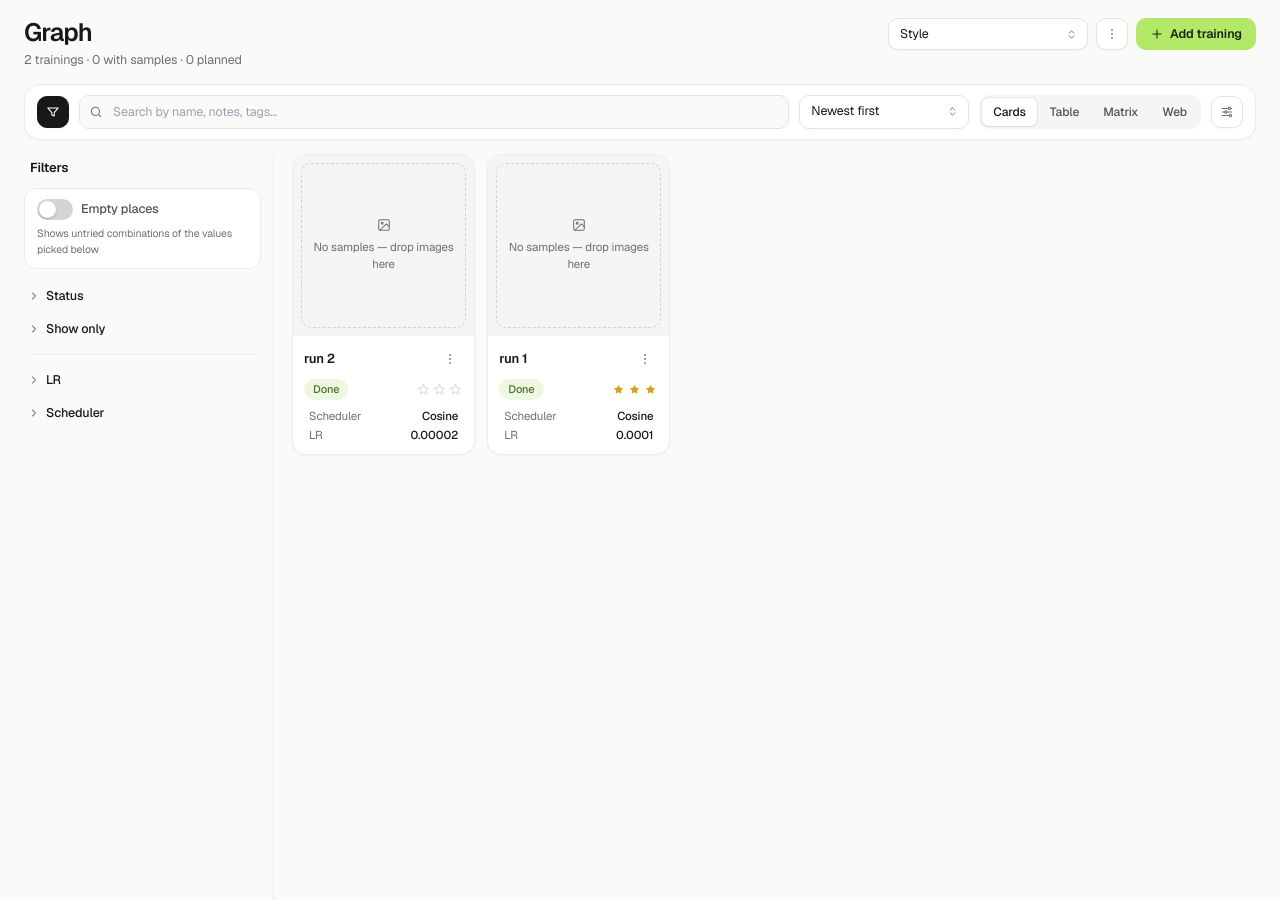
Test: GraphPage › shows a queue loading error and allows retrying
The width and height of the screenshot is (1280, 900).
Expected: the text "run 1" is shown, x1=499 y1=350 x2=527 y2=367
What coordinates should you click on to do the following:
click the button "Add training"
I would click on:
 (1196, 34)
Its box is x1=1136 y1=18 x2=1256 y2=50.
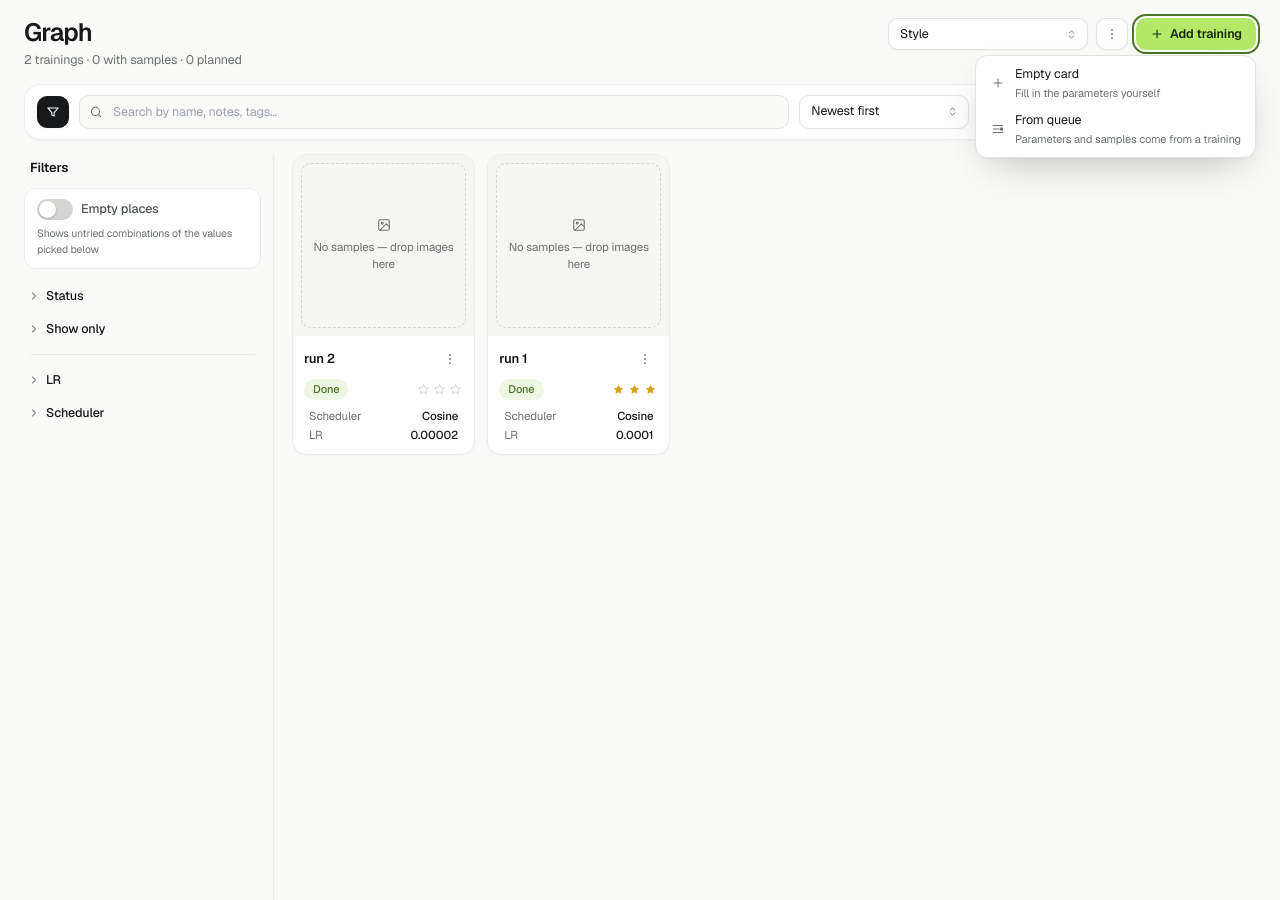
What coordinates should you click on to do the following:
click the menu item "From queue Parameters and samples come from a training"
I would click on:
 (1115, 129)
Its box is x1=980 y1=106 x2=1251 y2=153.
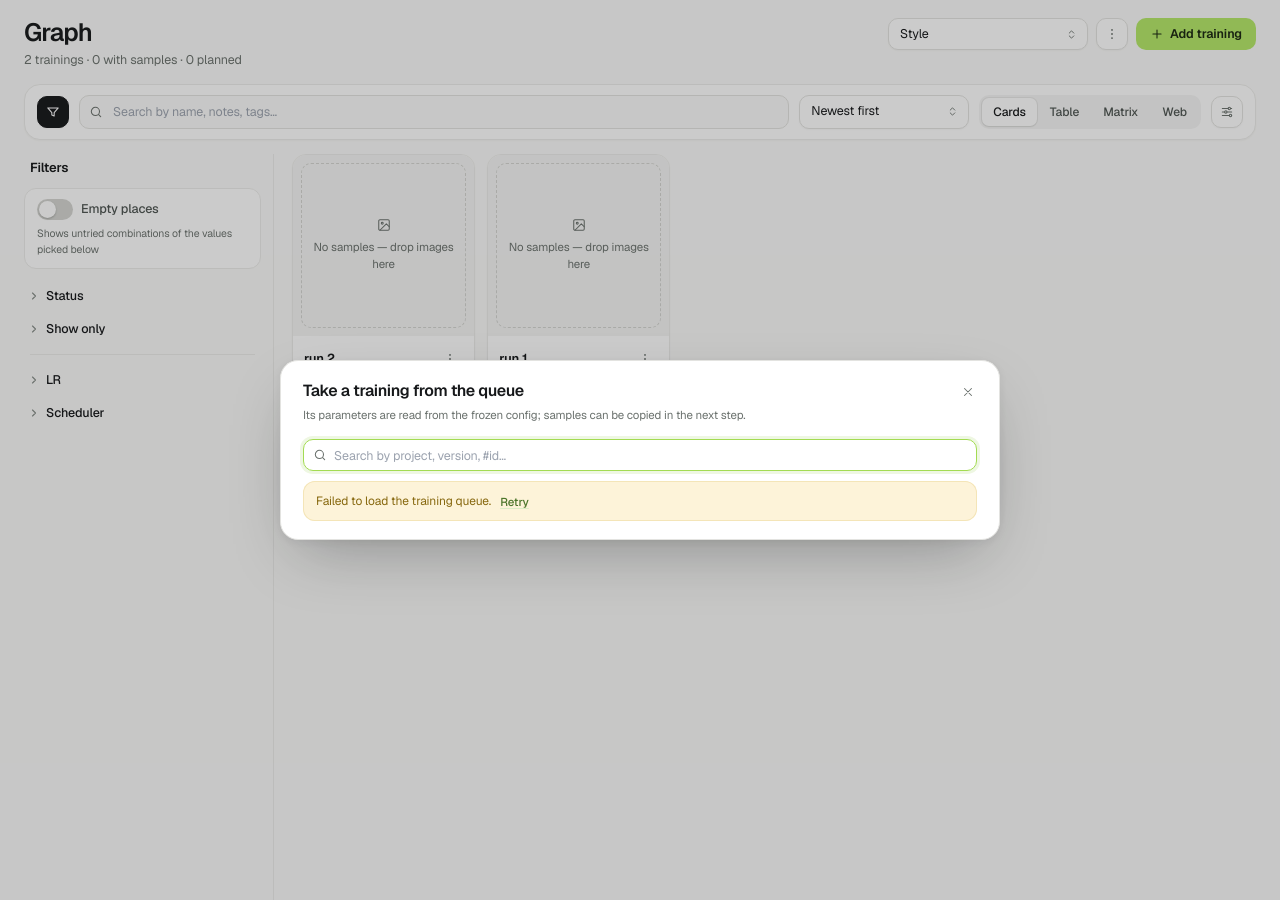
Expected: the message shows "Failed to load the training queue.", x1=316 y1=493 x2=491 y2=509
What coordinates should you click on to do the following:
click the button "Retry"
I would click on:
 (514, 501)
Its box is x1=500 y1=492 x2=529 y2=510.
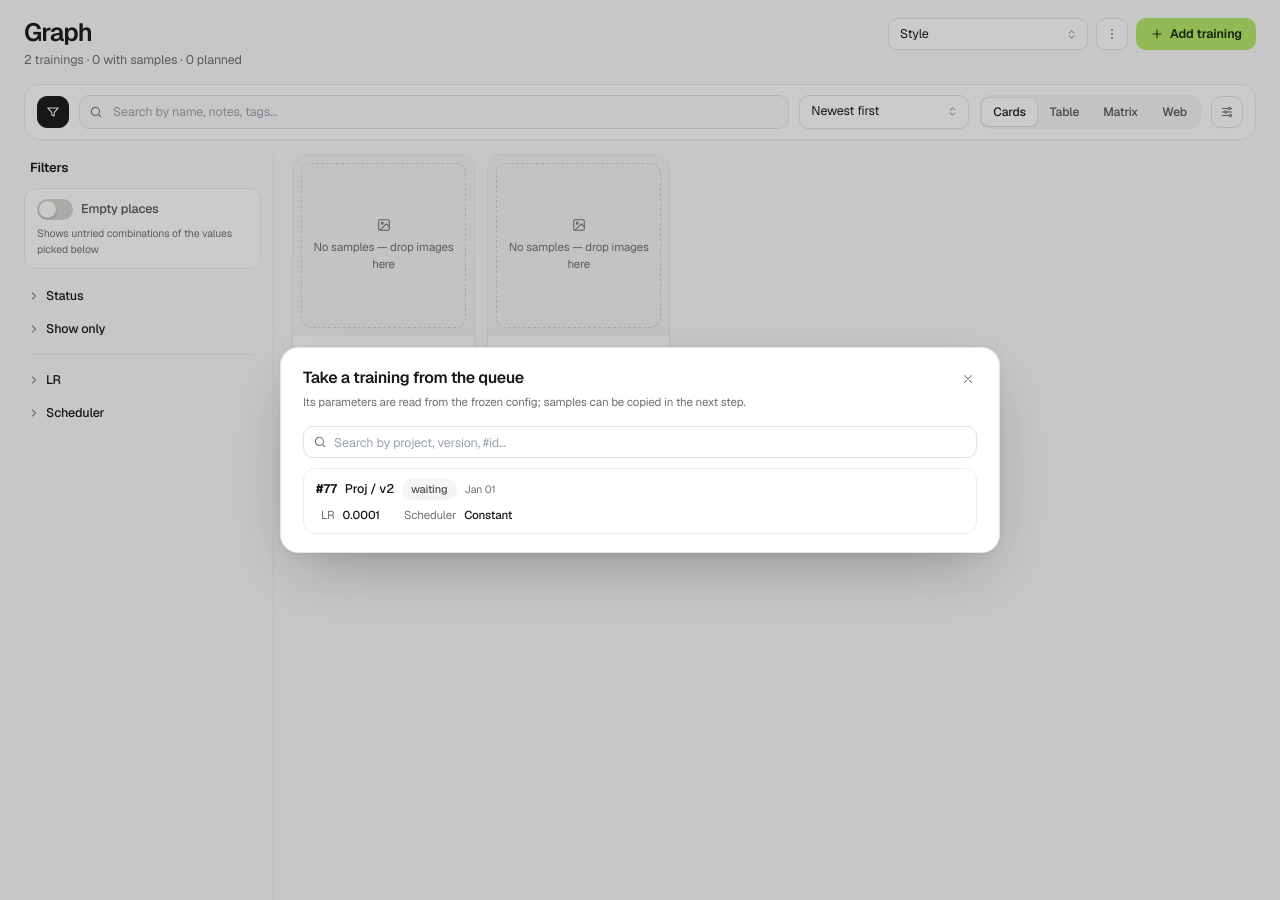
Expected: the text "#77" is shown, x1=316 y1=480 x2=337 y2=499
Expected: the message "Failed to load the training queue. Retry" is gone
